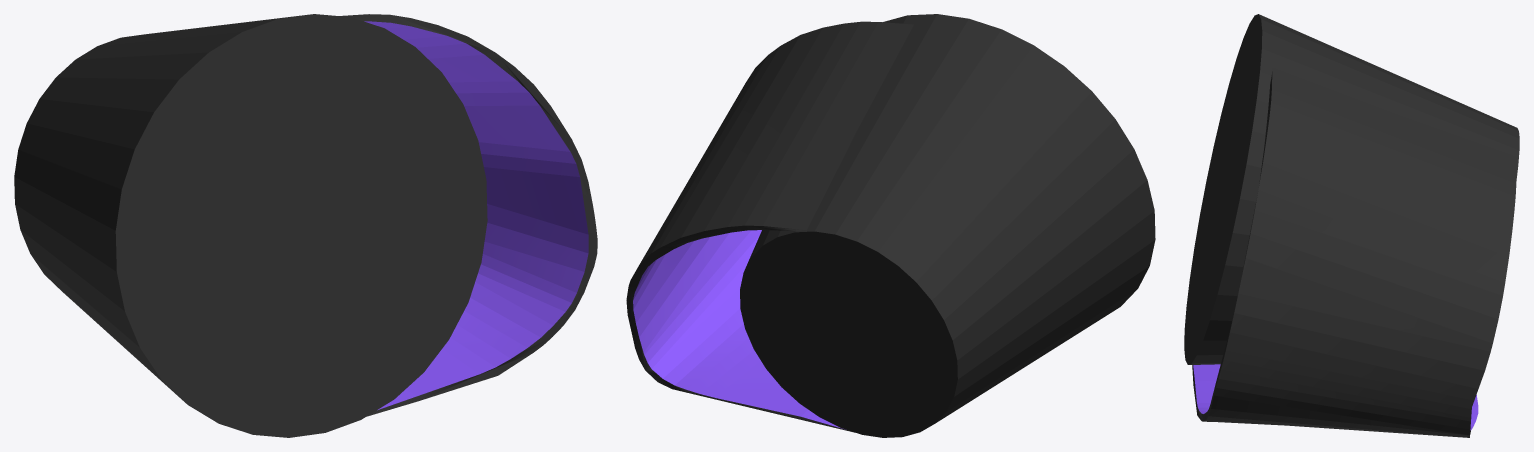
File: SpeakerLeft.glb
The picture shows the model from 3 angles, left to right: view 1: azimuth 30°, elevation 25°; view 2: azimuth 150°, elevation 25°; view 3: azimuth 270°, elevation 25°; orthographic projection. The views are drawn at different scales.
Visible parts, largest first — view 1: Speaker Left; view 2: Speaker Left; view 3: Speaker Left.
Boxes of the visible parts, left/top/right/bottom form: Speaker Left: left=14, top=14, right=597, bottom=437; Speaker Left: left=626, top=14, right=1155, bottom=437; Speaker Left: left=1184, top=14, right=1519, bottom=437.
Bounding box in the file's own units: 0.1375 × 0.1043 × 0.0999.
